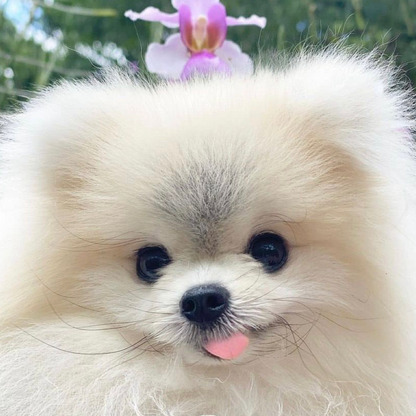Pomeranian: (24, 80, 392, 398)
